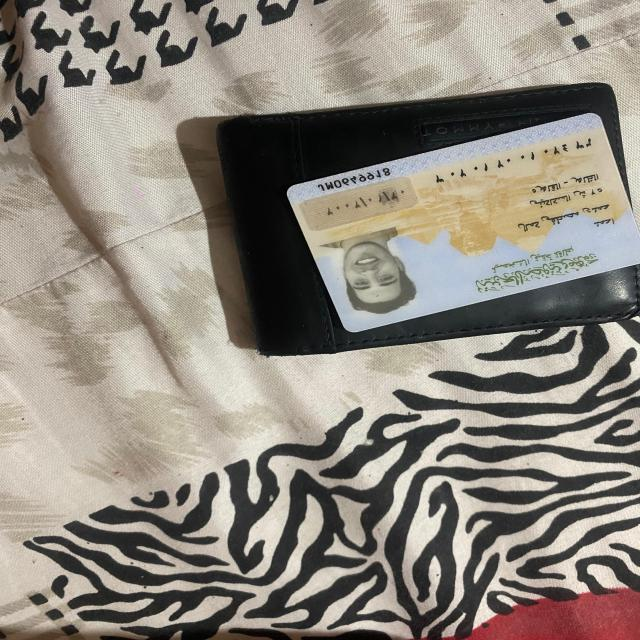id_card: (279, 100, 640, 342)
